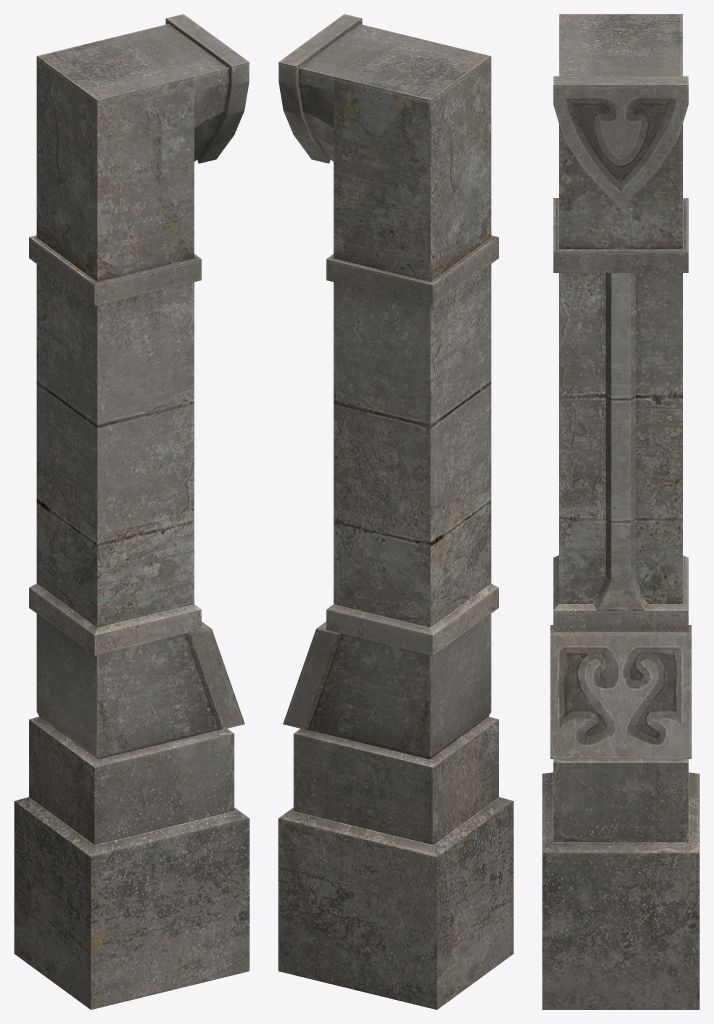
File: bg_lut_lucastle_housepillar03_sm_sup.FBX
3 renders of one model, left to right at view 1: azimuth 30°, elevation 25°; view 2: azimuth 150°, elevation 25°; view 3: azimuth 270°, elevation 25°, orthographic. The views are drawn at different scales.
Visible parts, largest first — view 1: bg_lut_lucastle_housepillar03_sm_sup; view 2: bg_lut_lucastle_housepillar03_sm_sup; view 3: bg_lut_lucastle_housepillar03_sm_sup.
Boxes of the visible parts, x1,y1,x2,y2 form: bg_lut_lucastle_housepillar03_sm_sup: (14, 14, 249, 1009); bg_lut_lucastle_housepillar03_sm_sup: (278, 14, 513, 1009); bg_lut_lucastle_housepillar03_sm_sup: (542, 14, 699, 1009).
Size of the model in its own units: 40.42 by 213 by 32.8.
